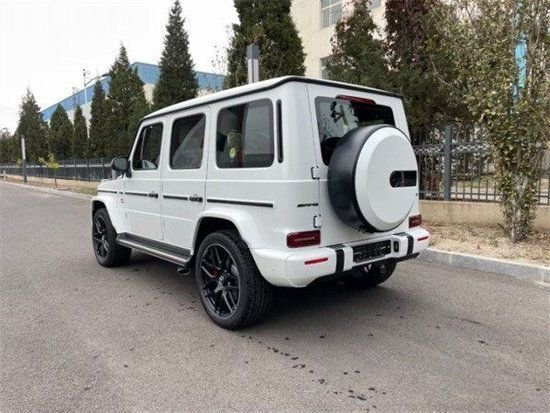car: (89, 73, 433, 329)
